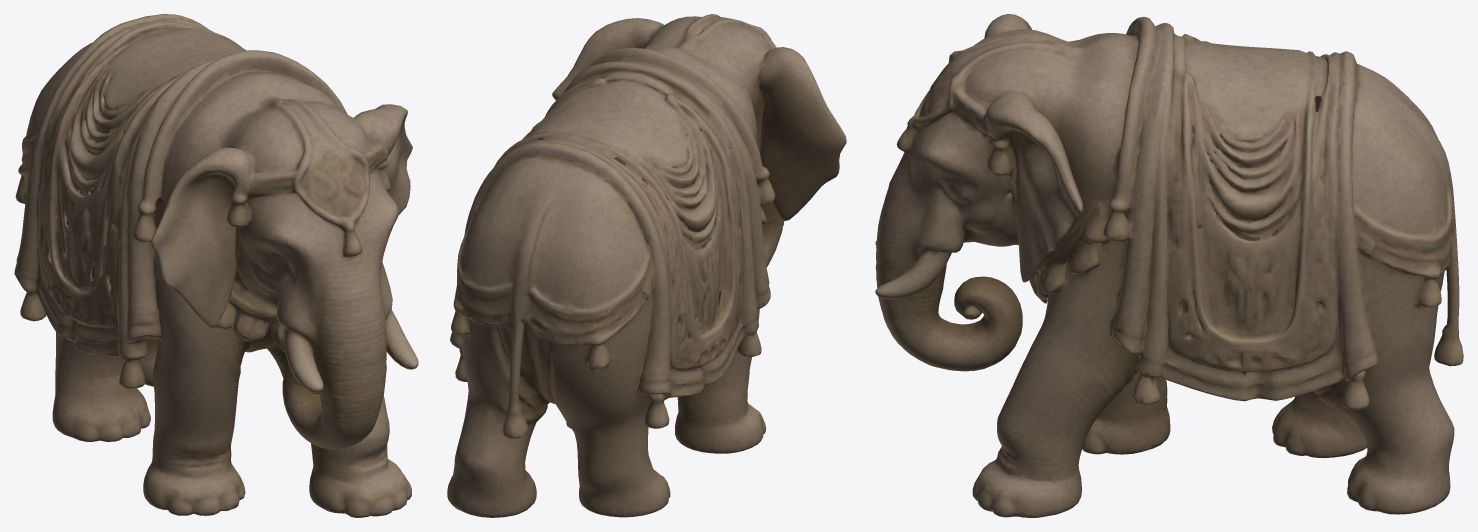
The model's file is generation_elephant_0.glb.
3 renders of one model, left to right at view 1: azimuth 30°, elevation 25°; view 2: azimuth 150°, elevation 25°; view 3: azimuth 270°, elevation 25°, orthographic. The views are drawn at different scales.
Parts seen in each view (by area): view 1: geometry_0; view 2: geometry_0; view 3: geometry_0.
Part boxes in pixels (x1,y1,x2,y2): geometry_0: [14, 14, 418, 517]; geometry_0: [447, 14, 846, 517]; geometry_0: [875, 14, 1463, 517].
Size of the model in its own units: 0.5993 by 0.8225 by 1.
1 material, 1 textured.
